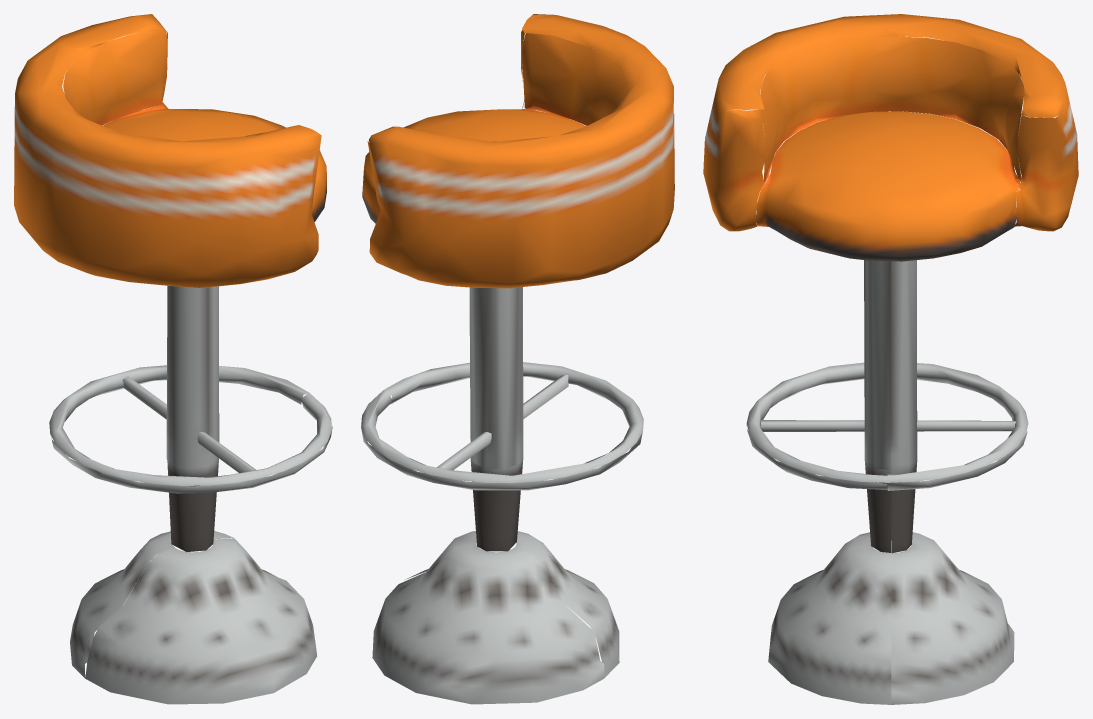
File: bar_stool_1_c.glb
3 views of the same model, side by side, from view 1: azimuth 30°, elevation 25°; view 2: azimuth 150°, elevation 25°; view 3: azimuth 270°, elevation 25° (orthographic).
Visible parts, largest first — view 1: bar_stool_1; view 2: bar_stool_1; view 3: bar_stool_1.
Part boxes in pixels (x1,y1,x2,y2): bar_stool_1: (14, 14, 332, 704); bar_stool_1: (361, 14, 674, 704); bar_stool_1: (703, 14, 1078, 704).
Bounding box in the file's own units: 0.4741 × 0.9477 × 0.5659.
Materials: 1 (1 with a texture image).
